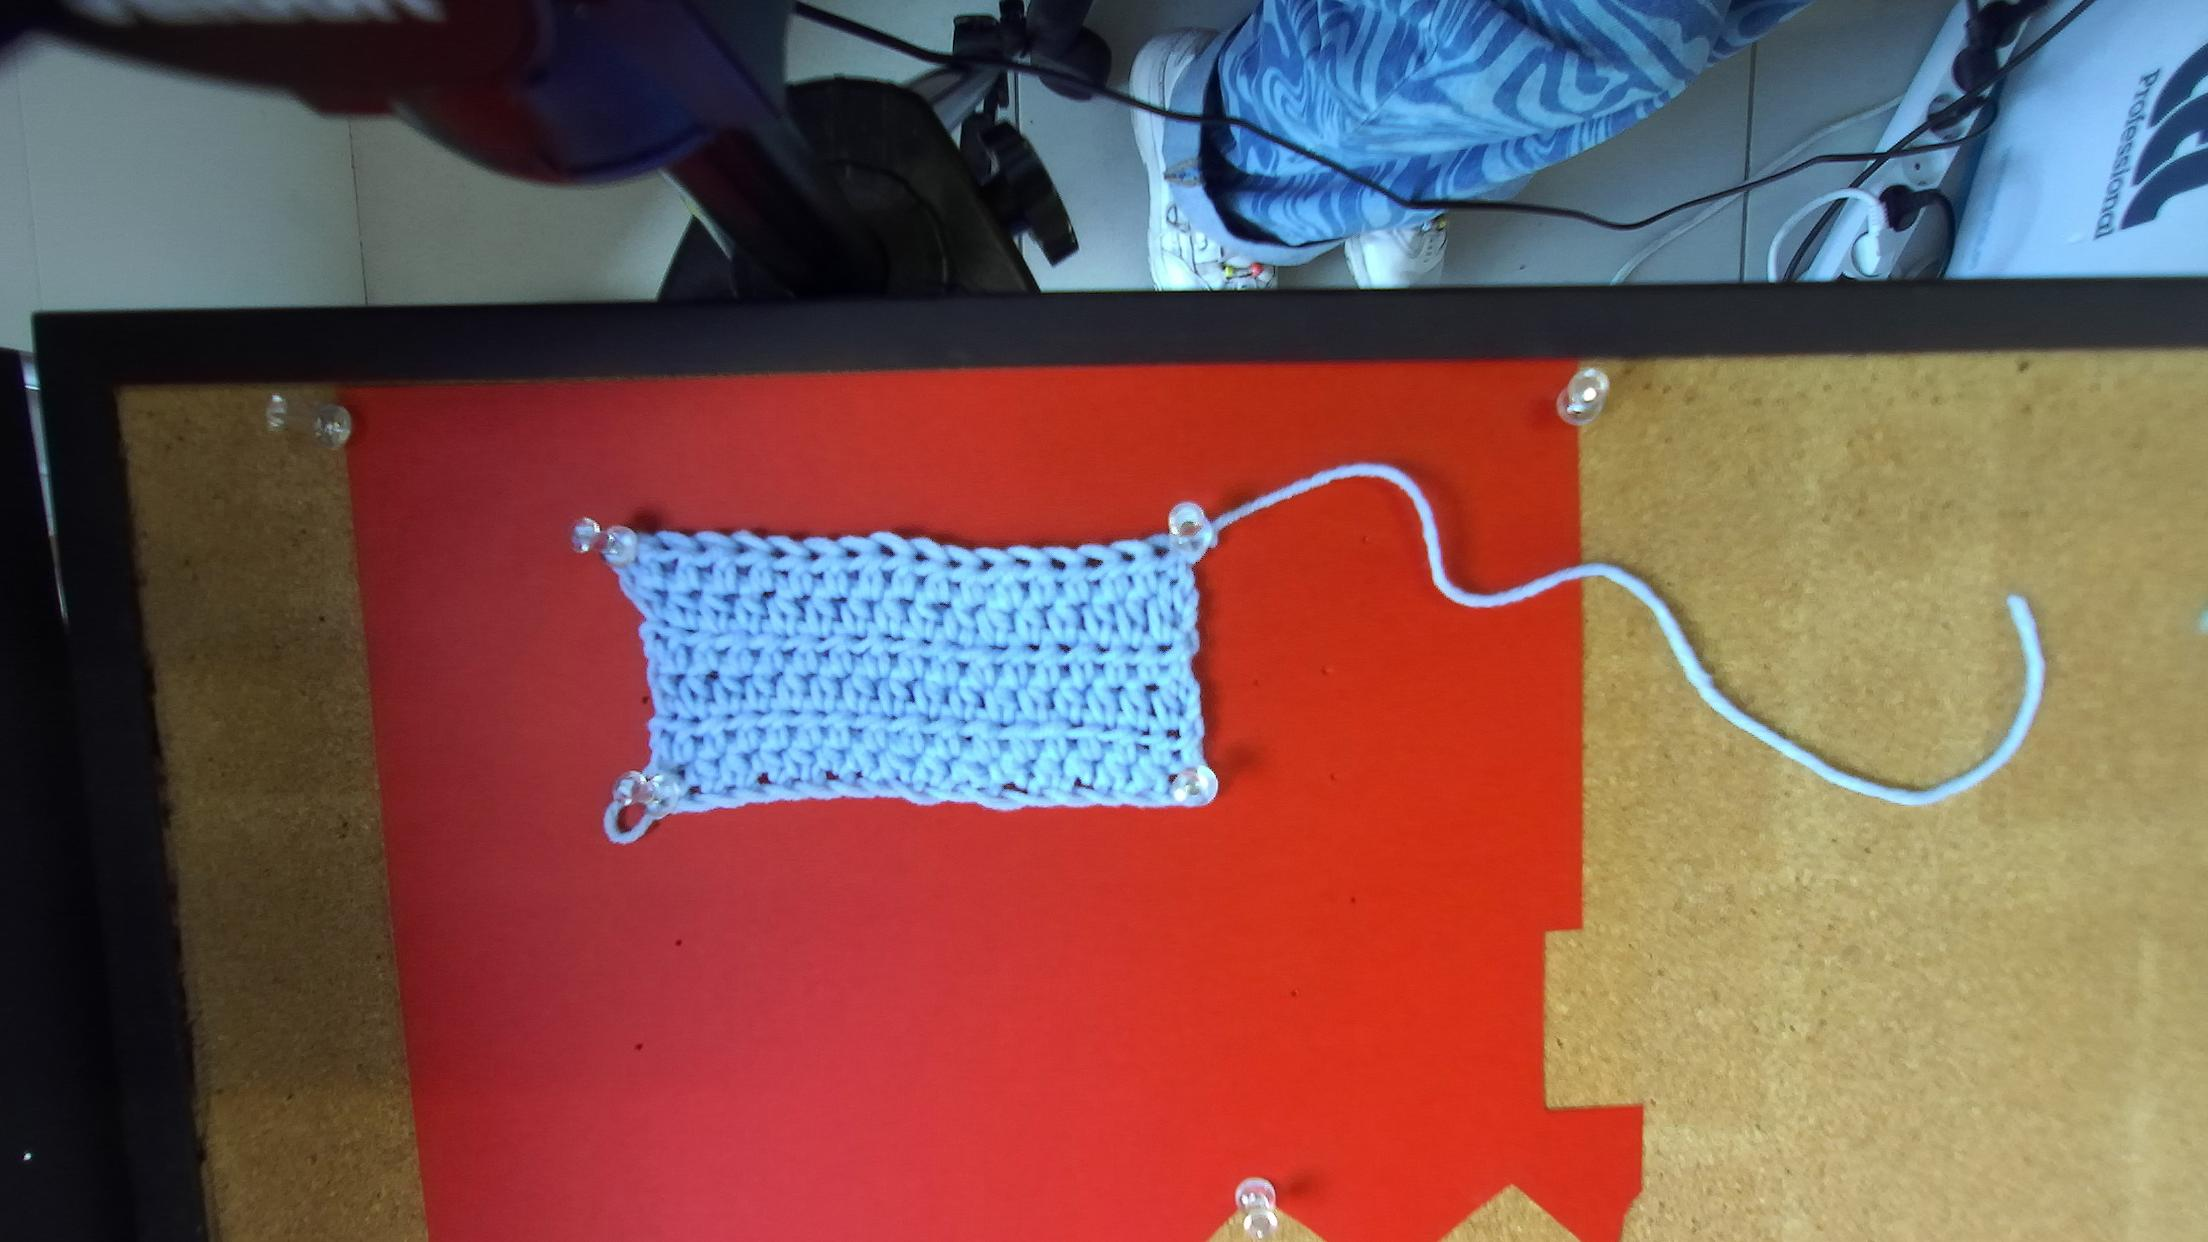hole: (1149, 544, 1171, 560), (770, 546, 792, 560), (1049, 557, 1068, 572), (1083, 557, 1106, 569), (977, 558, 995, 572), (945, 557, 964, 569), (880, 544, 896, 558), (1119, 550, 1136, 564), (1013, 557, 1033, 567), (734, 543, 752, 554), (804, 550, 822, 561), (914, 550, 928, 564), (845, 549, 861, 560), (658, 541, 673, 552), (698, 544, 708, 552)
swatch: (585, 510, 1225, 848)
